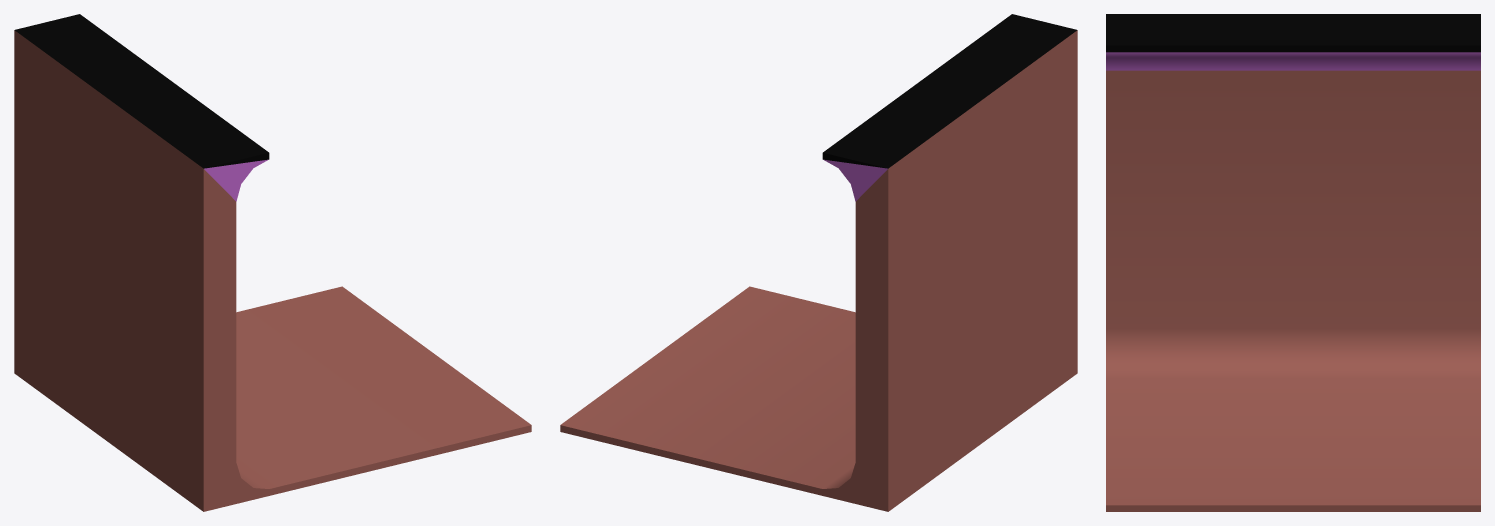
The model's file is Tileset_31.fbx.
3 views of the same model, side by side, from view 1: azimuth 30°, elevation 25°; view 2: azimuth 150°, elevation 25°; view 3: azimuth 270°, elevation 25° (orthographic).
Visible parts, largest first — view 1: Tileset_31; view 2: Tileset_31; view 3: Tileset_31.
Part boxes in pixels (x1=…): Tileset_31: x1=14, y1=14, x2=531, y2=511; Tileset_31: x1=560, y1=14, x2=1077, y2=511; Tileset_31: x1=1106, y1=14, x2=1480, y2=511.
Size of the model in its own units: 100 by 100 by 100.
